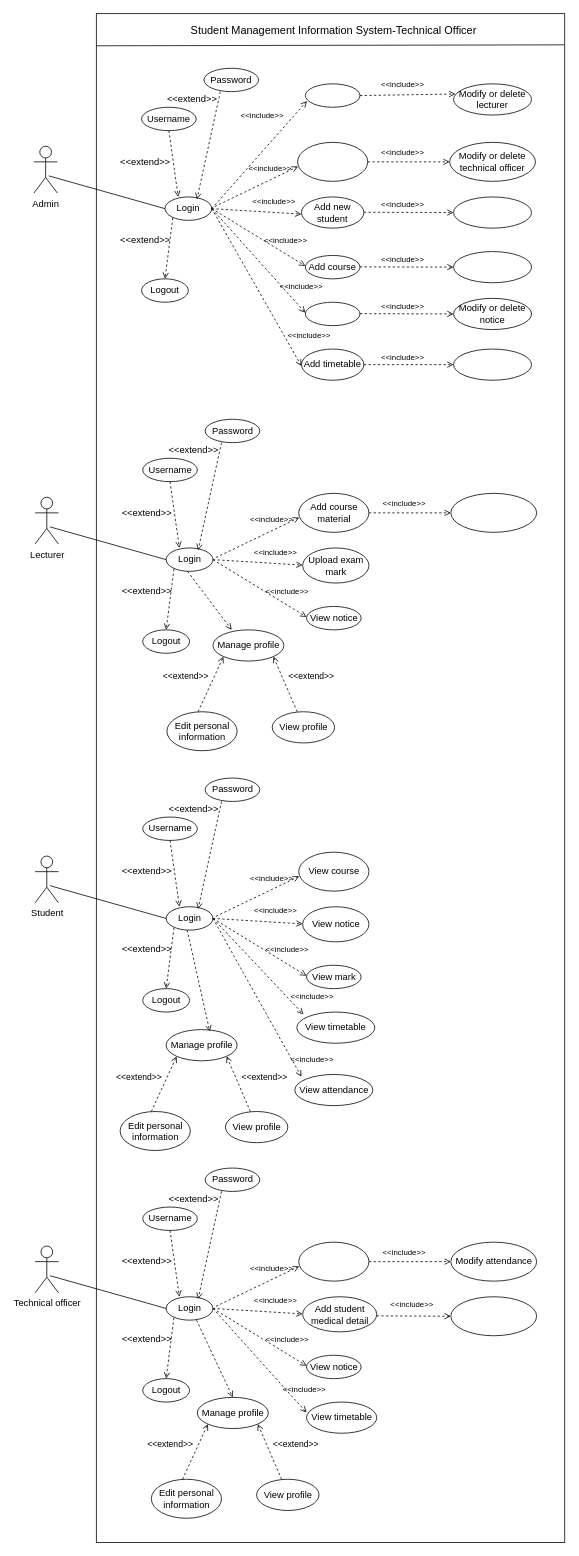
This 579x1556 diagram has some shape labels left out. Here are the shapes that lost their labels. From the top down, the centre of each, then its label:
point (332, 95): Add lecturer
point (332, 161): Add technical officer
point (492, 212): Modify or delete student
point (492, 267): Modify or delete course
point (332, 313): Add notice
point (492, 364): Modify or delete timetable
point (493, 512): Modify or delete material
point (333, 1261): Add student attendance
point (493, 1316): Modify medical detail
